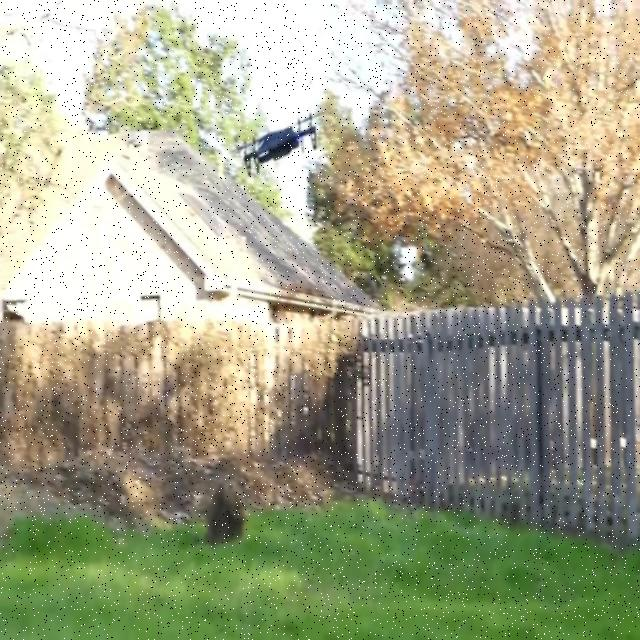UAV: (231, 110, 326, 177)
